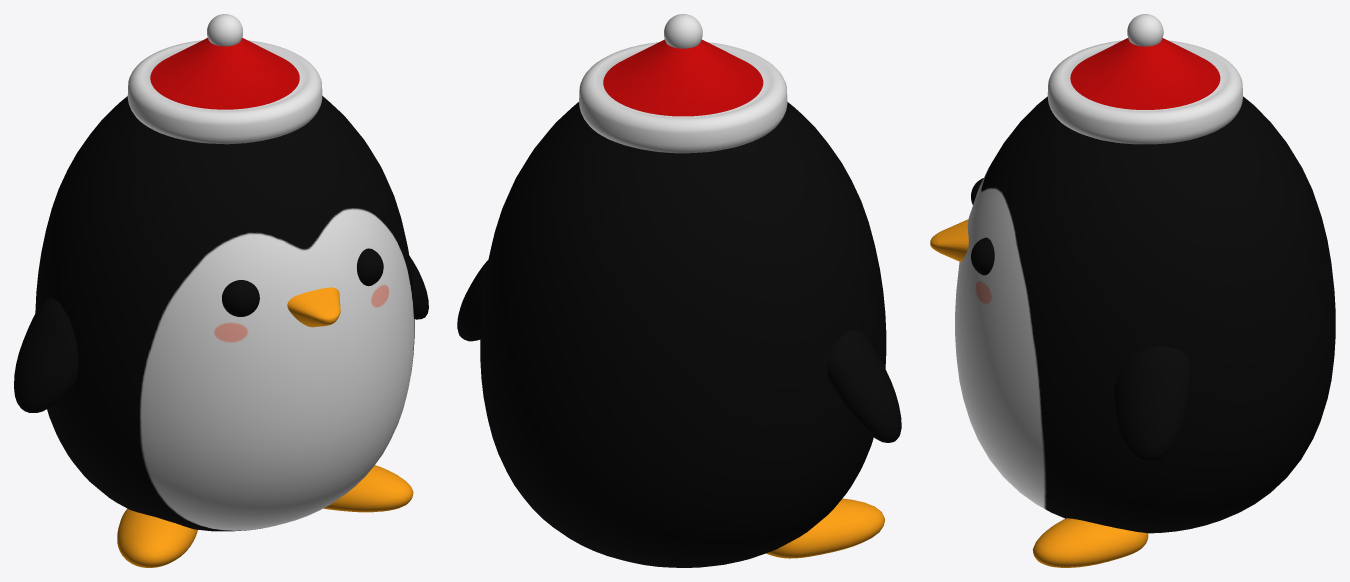
Rendered from penguin.gltf.
3 renders of one model, left to right at view 1: azimuth 30°, elevation 25°; view 2: azimuth 150°, elevation 25°; view 3: azimuth 270°, elevation 25°, orthographic. The views are drawn at different scales.
Visible parts, largest first — view 1: Roundcube, Roundcube.003, Roundcube.001, Roundcube.002, Cube; view 2: Roundcube, Roundcube.003, Roundcube.001; view 3: Roundcube, Roundcube.003, Roundcube.001, Cube, Roundcube.002.
Part boxes in pixels (x1=…): Roundcube: x1=35, y1=96, x2=414, y2=531; Roundcube.003: x1=127, y1=14, x2=322, y2=144; Roundcube.001: x1=14, y1=256, x2=428, y2=567; Roundcube.002: x1=222, y1=248, x2=383, y2=316; Cube: x1=287, y1=287, x2=340, y2=327; Roundcube: x1=480, y1=102, x2=886, y2=567; Roundcube.003: x1=579, y1=14, x2=787, y2=153; Roundcube.001: x1=457, y1=260, x2=901, y2=558; Roundcube: x1=955, y1=96, x2=1335, y2=533; Roundcube.003: x1=1047, y1=14, x2=1242, y2=144; Roundcube.001: x1=1032, y1=346, x2=1191, y2=567; Cube: x1=930, y1=219, x2=968, y2=261; Roundcube.002: x1=971, y1=178, x2=994, y2=275.
Bounding box in the file's own units: 4.04 × 4.66 × 3.48.
Materials: 1 (1 with a texture image).
